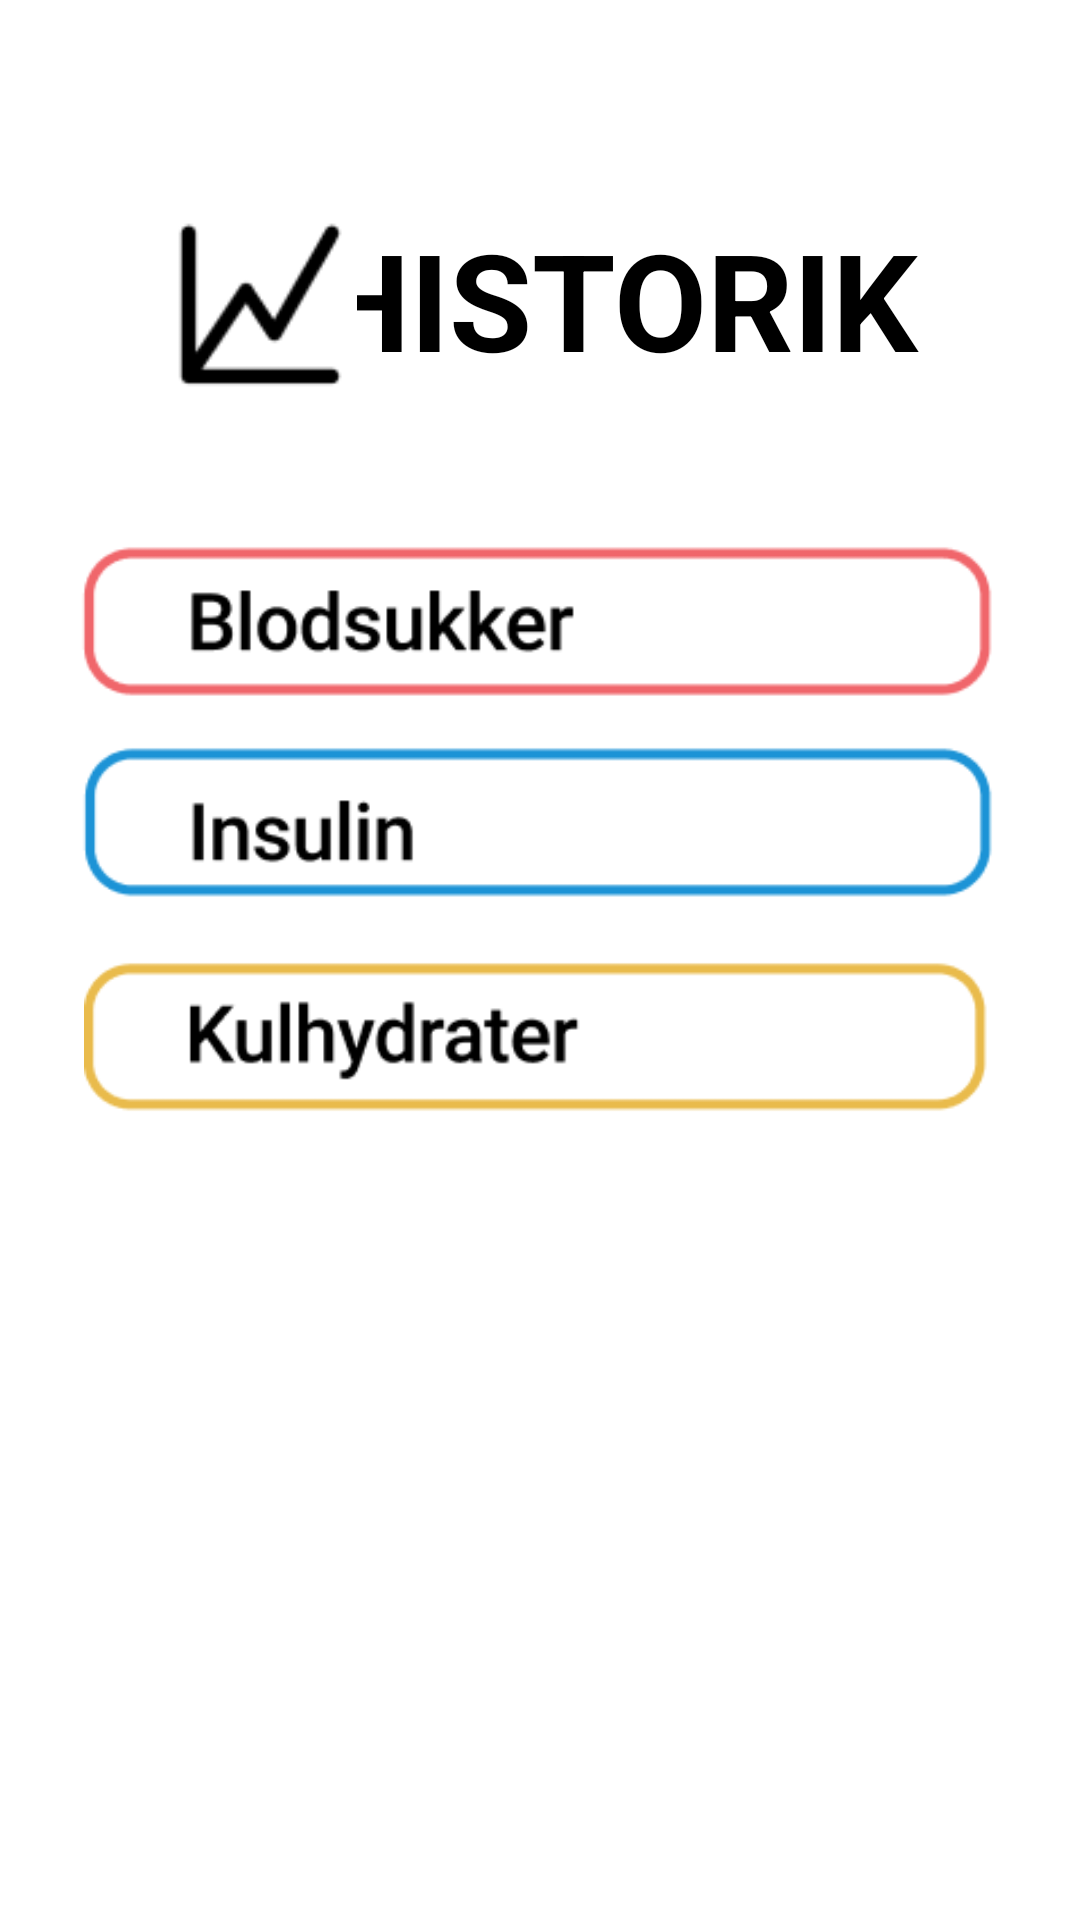

Icon click points for this 1080*1920 phone screenshot, format (x,y):
graf: (260,304)
